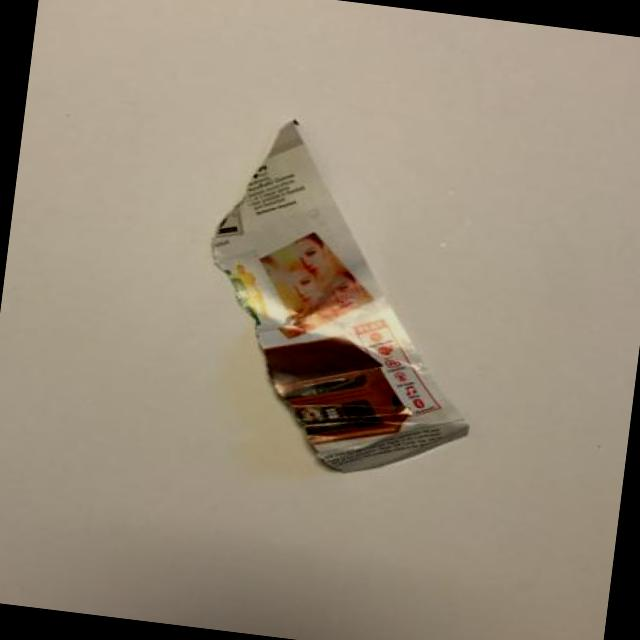paper: (152, 108, 477, 508)
